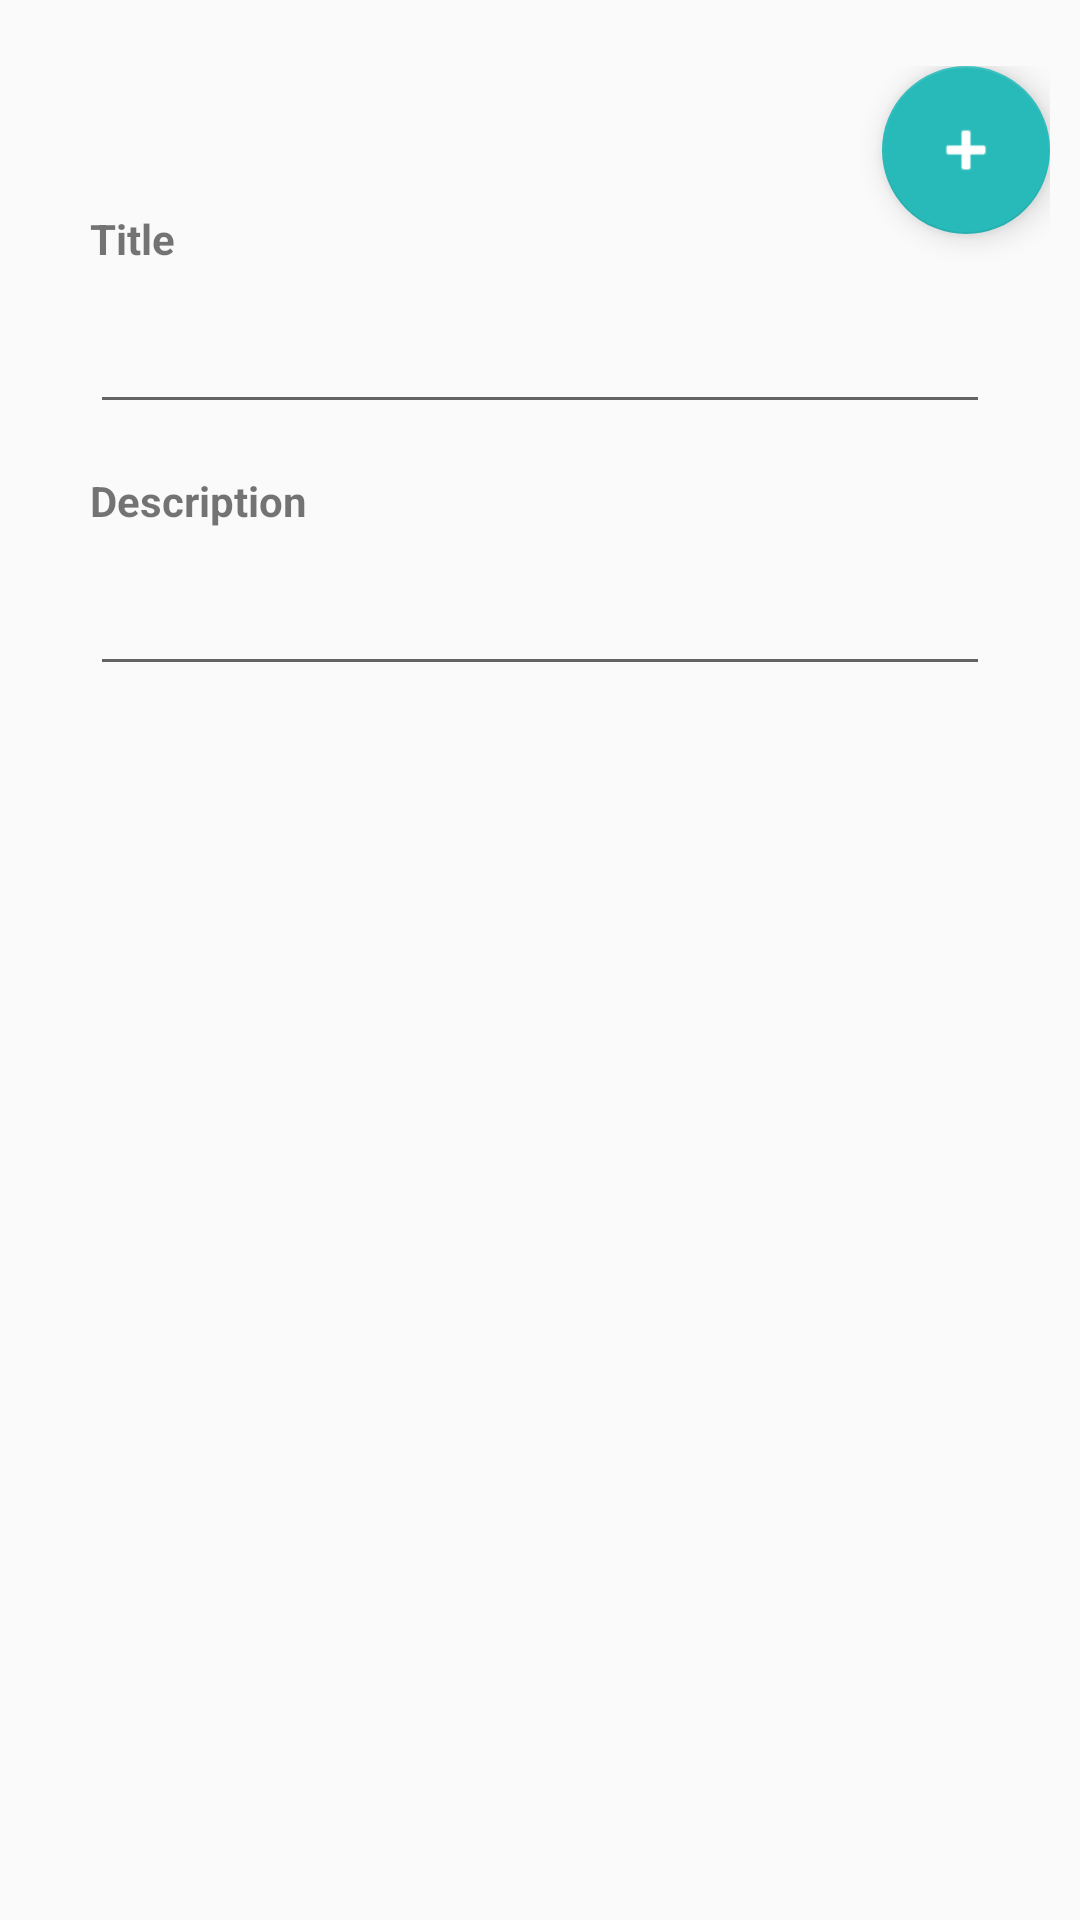

Where icons sit on this 1080 x 1920 app screen, as (x1, y1, x2, y2):
add: (882, 66, 1050, 234)
